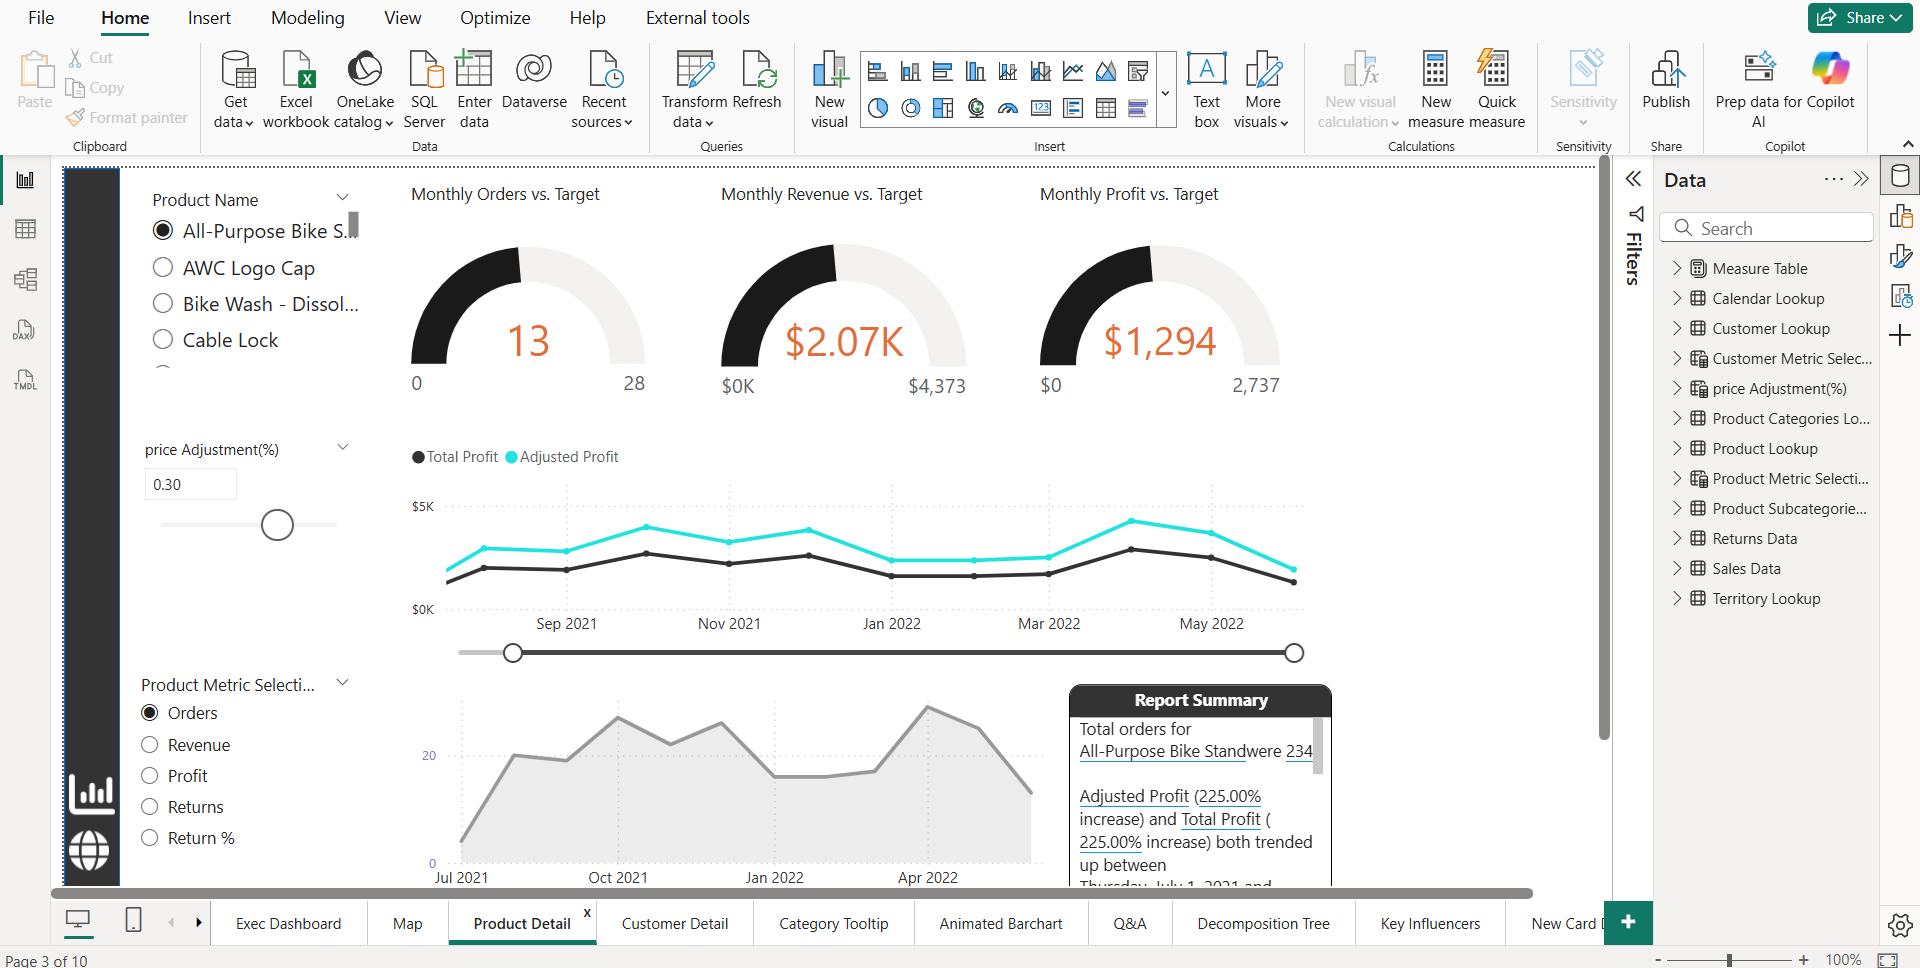

The dashboard page shown, as its layout file describes it:
{"tool":"powerbi","page":{"name":"Product Detail","canvas":[1280,720],"ordinal":2},"visuals":[{"type":"shape","box":[0,0,45,720],"z":0},{"type":"slicer","fields":{"Values":["Product Lookup.ProductName"]},"box":[58,11,183,154],"z":1000},{"type":"actionButton","box":[0,525.6,45.2,40.3],"z":1000,"group":"g1"},{"type":"gauge","title":"Monthly Orders vs. Target","fields":{"Y":["Measure Table.Total Orders"],"MaxValue":["Measure Table.Order Target"]},"box":[273,11,197,212],"z":2000},{"type":"actionButton","box":[0,581.8,45.2,40.3],"z":2000,"group":"g1"},{"type":"gauge","title":"Monthly Revenue vs. Target","fields":{"Y":["Measure Table.Total Revenue"],"MaxValue":["Measure Table.Revenue Target"]},"box":[521,11,206,212],"z":3000},{"type":"actionButton","box":[0,476.7,45.2,48.9],"z":3000,"group":"g1"},{"type":"gauge","title":"Monthly Profit vs. Target","fields":{"Y":["Measure Table.Total Profit"],"MaxValue":["Measure Table.Profit Target"]},"box":[776,11,202,212],"z":4000},{"type":"actionButton","box":[0,638.1,45.2,40.3],"z":4000,"group":"g1"},{"type":"areaChart","title":" Profit Trending","fields":{"Category":["Calendar Lookup.Date Hierarchy.Start of Year","Calendar Lookup.Date Hierarchy.Start of Month","Calendar Lookup.Date Hierarchy.Start of Week","Calendar Lookup.Date Hierarchy.Date"],"Y":["Measure Table.Total Profit","Measure Table.Adjusted Profit"]},"box":[273,212,742,187],"z":5000},{"type":"areaChart","title":" Return Trending","fields":{"Y":["Measure Table.Total Orders"],"Category":["Calendar Lookup.Date Hierarchy.Start of Year","Calendar Lookup.Date Hierarchy.Start of Month","Calendar Lookup.Date Hierarchy.Start of Week","Calendar Lookup.Date Hierarchy.Date"]},"box":[281,413,523,189],"z":6000},{"type":"group","id":"g1","title":"Navigation Buttons","box":[0,476.7,45.2,201.7],"z":7000},{"type":"slicer","fields":{"Values":["price Adjustment(%).price Adjustment(%)"]},"box":[52,212,189,123],"z":8000},{"type":"slicer","fields":{"Values":["Product Metric Selection.Product Metric Selection"]},"box":[49,399,192,202],"z":9000},{"type":"textbox","title":"Report Summary","box":[804,413,211,189],"z":10000}]}

Visuals, with their boxes on the page's 1280x720 design canvas (x1, y1, x2, y2). These are canvas units, not pixel positions in the 1920x968 screenshot, which may show the page scaled, cropped or inside an application window:
shape: [0, 0, 45, 720]
slicer - Product Lookup.ProductName: [58, 11, 241, 165]
actionButton: [0, 526, 45, 566]
"Monthly Orders vs. Target" gauge: [273, 11, 470, 223]
actionButton: [0, 582, 45, 622]
"Monthly Revenue vs. Target" gauge: [521, 11, 727, 223]
actionButton: [0, 477, 45, 526]
"Monthly Profit vs. Target" gauge: [776, 11, 978, 223]
actionButton: [0, 638, 45, 678]
" Profit Trending" areaChart: [273, 212, 1015, 399]
" Return Trending" areaChart: [281, 413, 804, 602]
"Navigation Buttons" group: [0, 477, 45, 678]
slicer - price Adjustment(%).price Adjustment(%): [52, 212, 241, 335]
slicer - Product Metric Selection.Product Metric Selection: [49, 399, 241, 601]
"Report Summary" textbox: [804, 413, 1015, 602]
